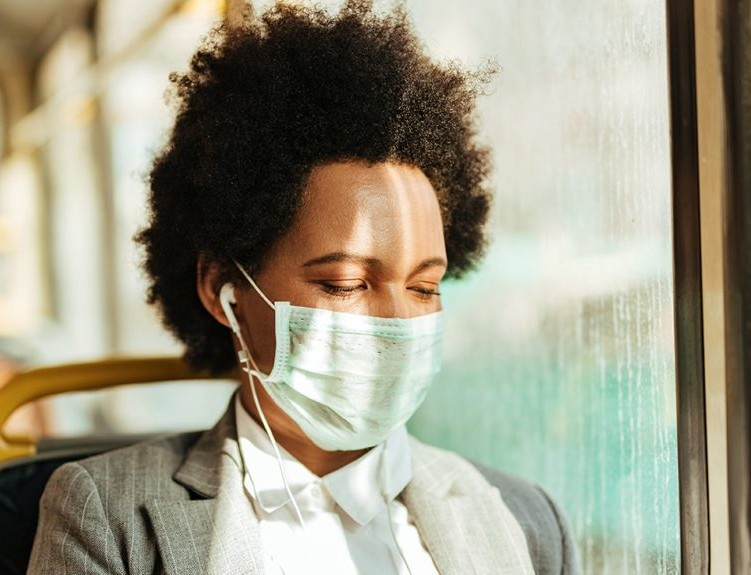with_mask: (195, 95, 504, 498)
